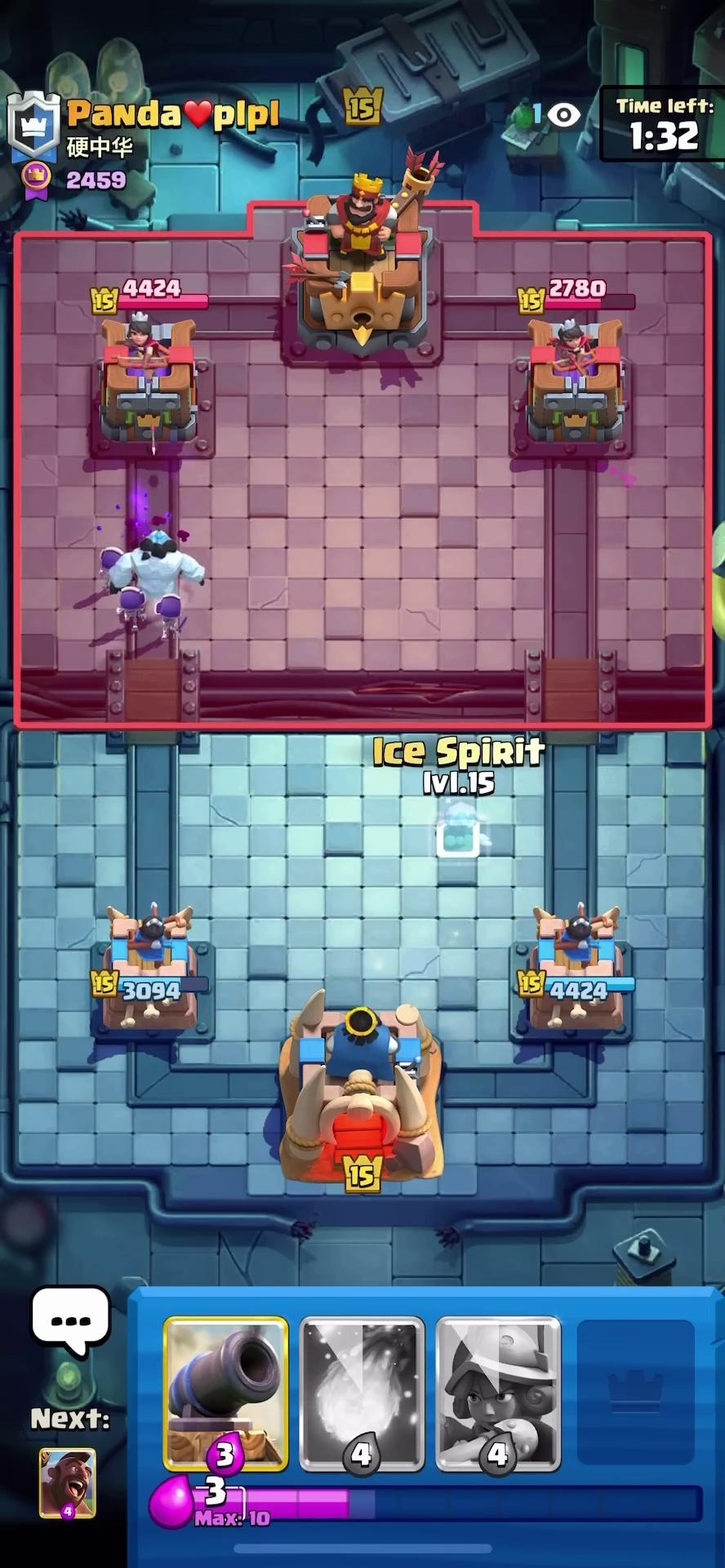evo_skeletons: (108, 590, 196, 627), (84, 537, 143, 584)
ice_golem: (122, 531, 204, 615)
